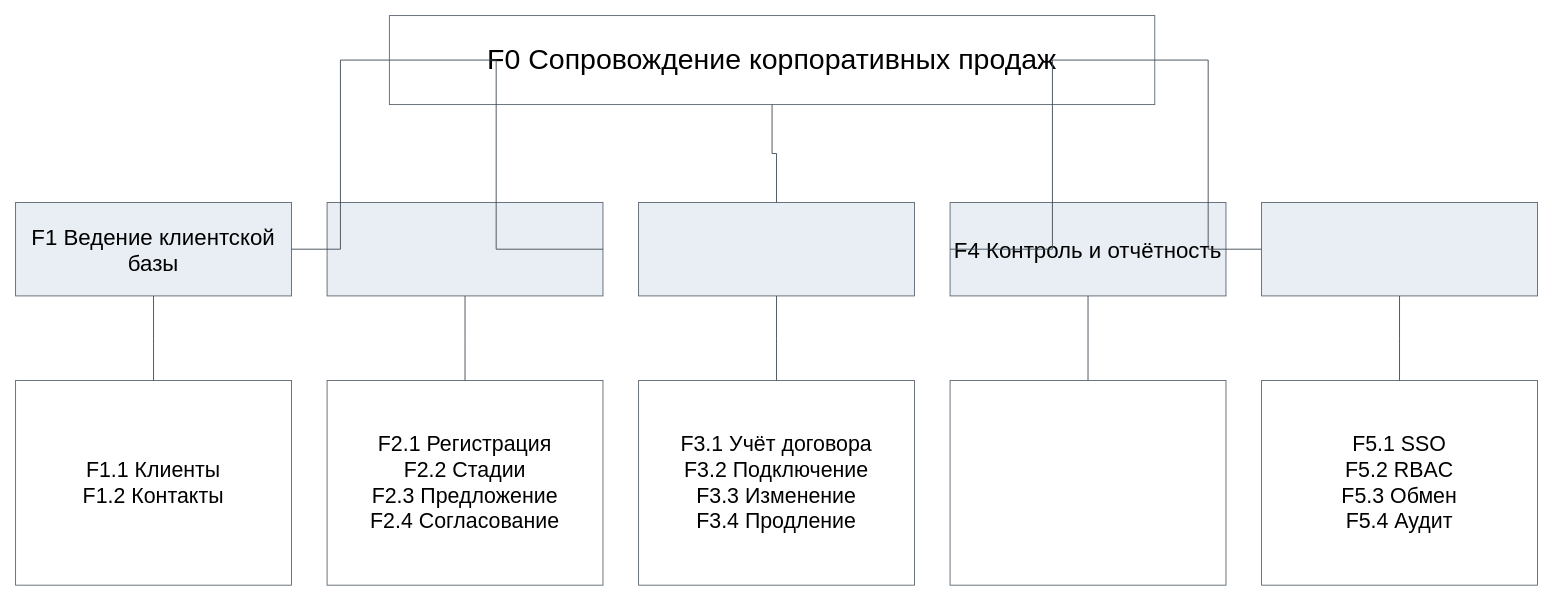
This 1553x601 diagram has some shape labels left out. Here are the shapes that lost their labels. From the top down, the box of each, then its label:
(326, 202, 603, 296): F2 Сопровождение сделки
(638, 202, 914, 296): F3 Договоры и услуги
(1261, 202, 1537, 296): F5 Доступ и интеграции
(949, 380, 1226, 585): F4.1 Показатели F4.2 Сроки
